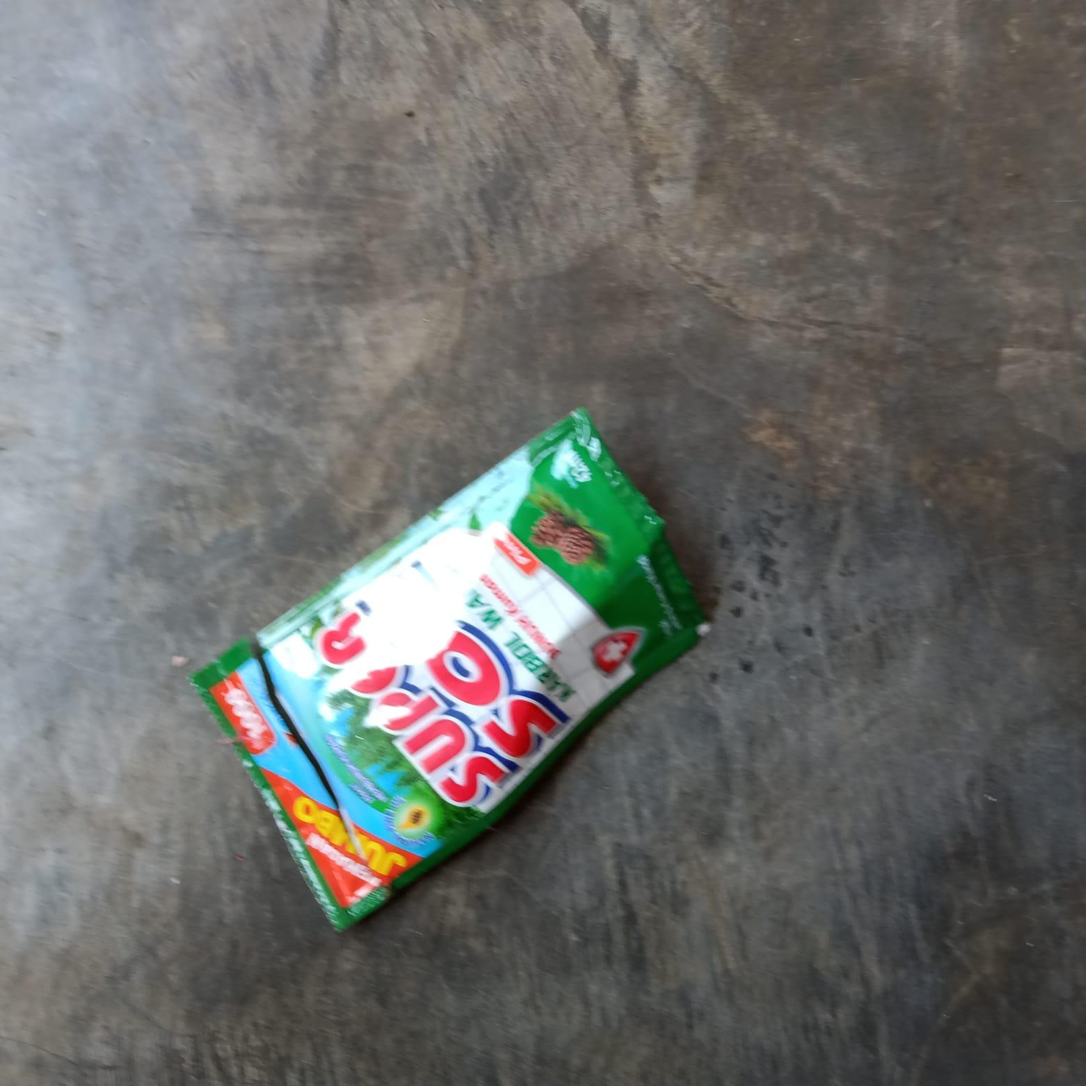Plastik: (194, 407, 713, 930)
